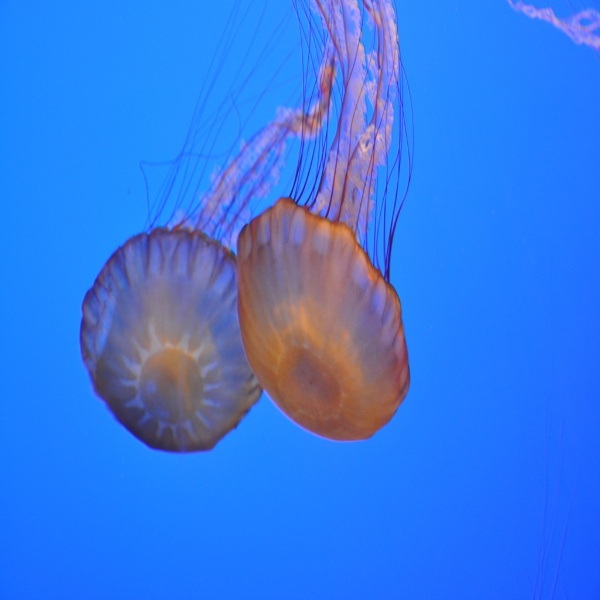Jellyfish: (80, 0, 340, 453), (236, 0, 414, 443), (507, 0, 600, 59)
